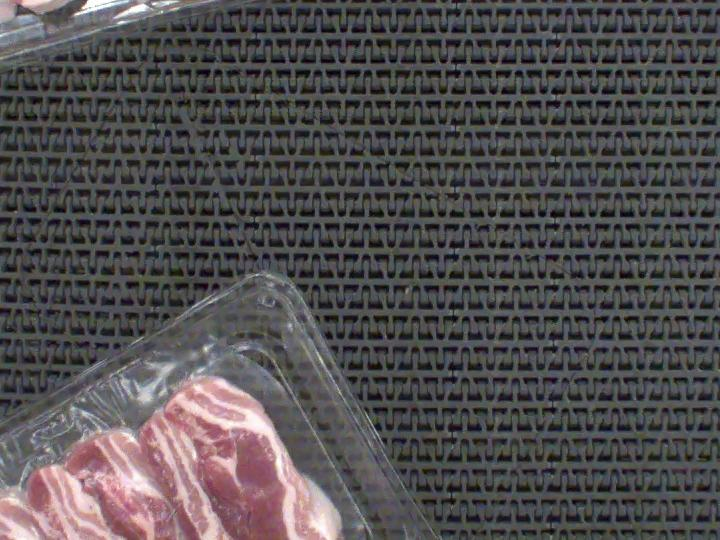unsealed: (0, 332, 409, 540)
